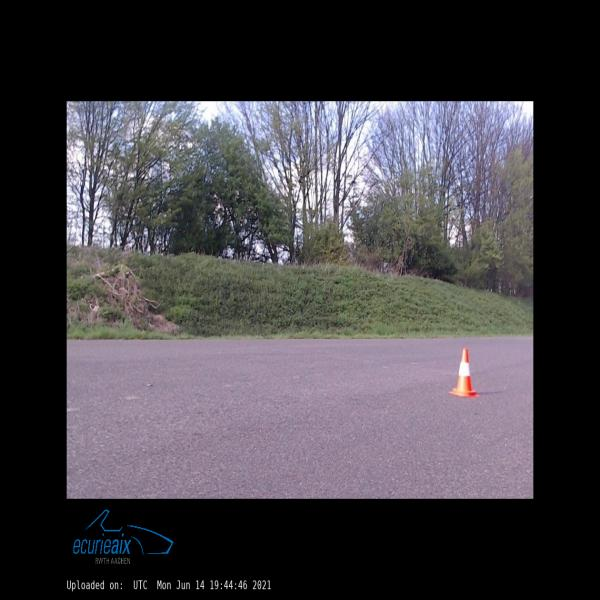orange_cone: (449, 348, 480, 397)
